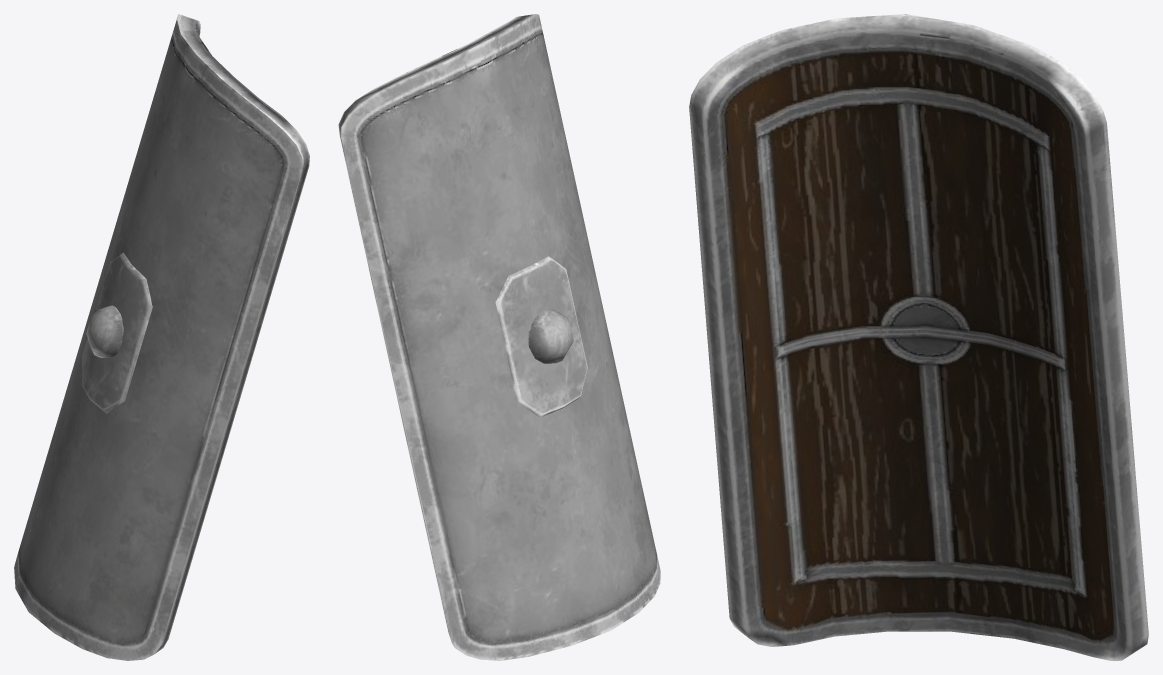
The model's file is shield-base.glb.
3 views of the same model, side by side, from view 1: azimuth 30°, elevation 25°; view 2: azimuth 150°, elevation 25°; view 3: azimuth 270°, elevation 25° (orthographic). The views are drawn at different scales.
Bounding box in the file's own units: 0.4394 × 1.02 × 0.6068.
1 material, 1 textured.
